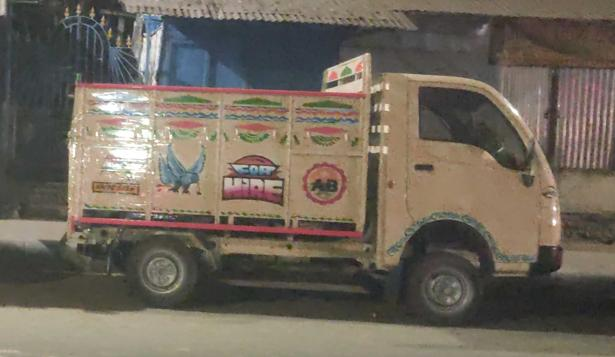Truck: (52, 58, 568, 317)
